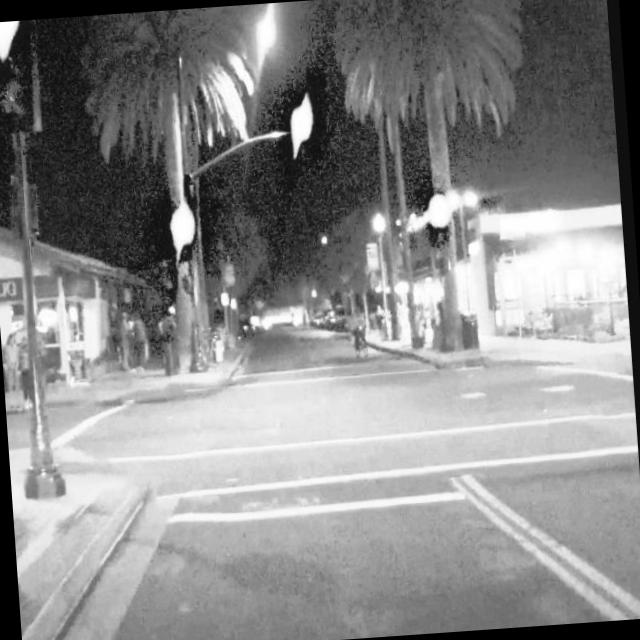Light: (292, 108, 310, 148), (174, 209, 192, 244), (432, 195, 447, 228), (0, 20, 17, 47)
Tree: (327, 0, 555, 363), (70, 5, 272, 388)
